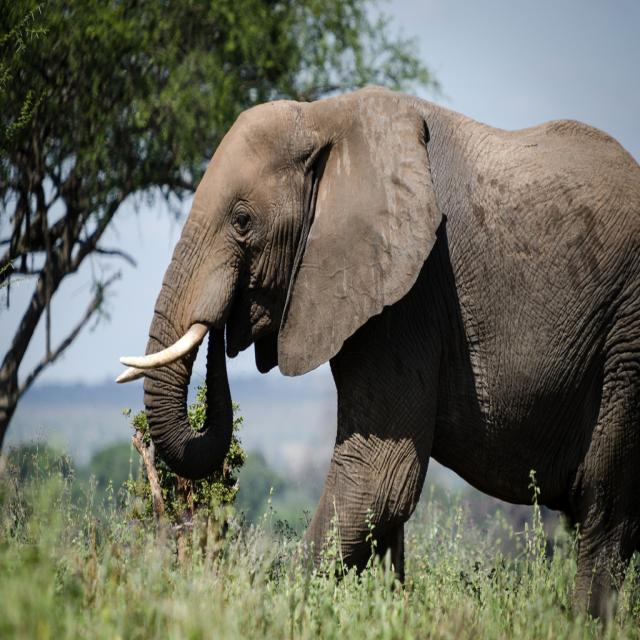elephant: (143, 117, 580, 554)
